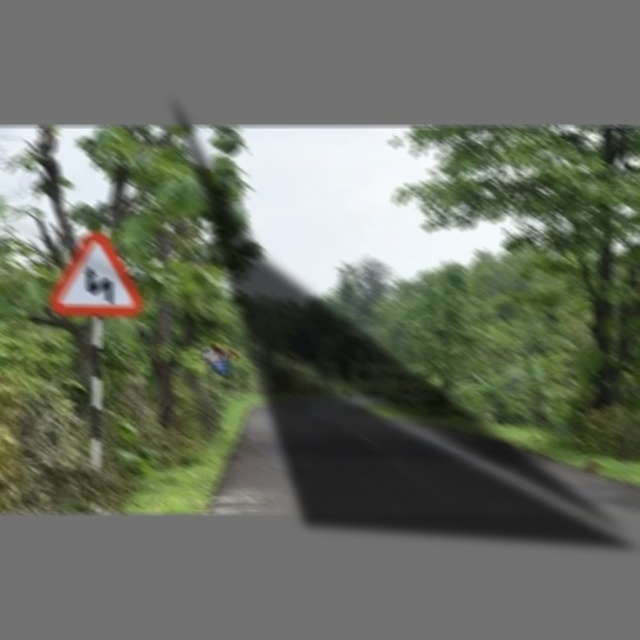Left_Reverse_Bend: (50, 230, 139, 318)
